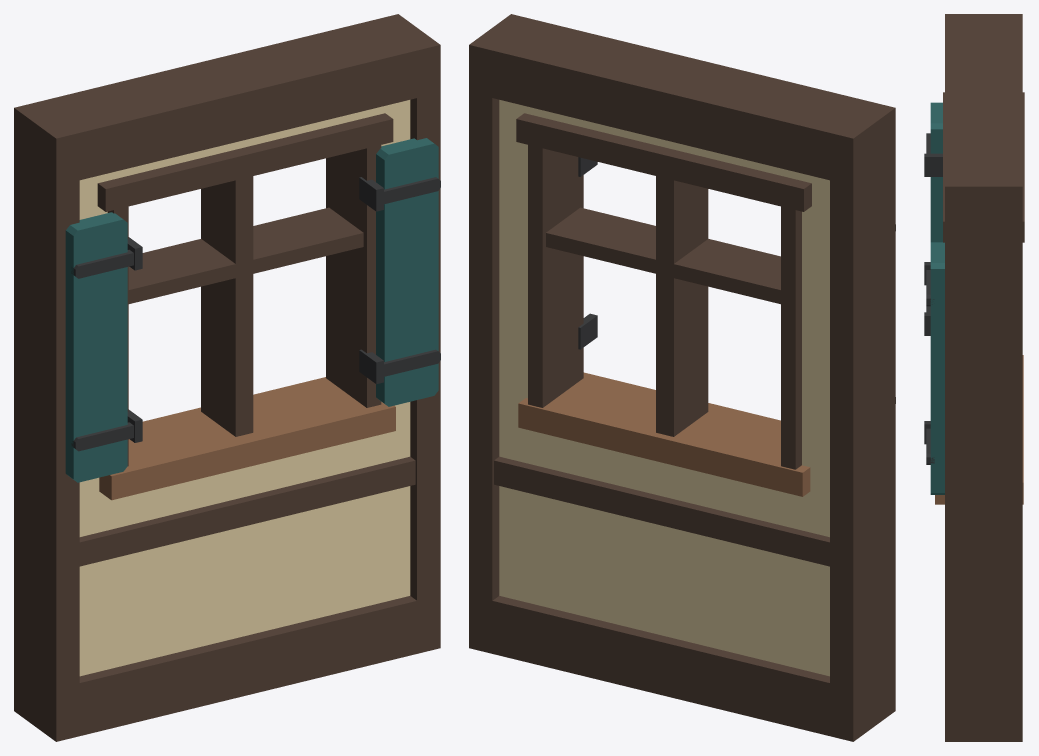
The model's file is shuttered_casement.glb.
The picture shows the model from 3 angles, left to right: view 1: azimuth 30°, elevation 25°; view 2: azimuth 150°, elevation 25°; view 3: azimuth 270°, elevation 25°; orthographic projection. The views are drawn at different scales.
Visible parts, largest first — view 1: Shuttered casement; view 2: Shuttered casement; view 3: Shuttered casement.
Part boxes in pixels (x1=…): Shuttered casement: x1=14, y1=14, x2=440, y2=741; Shuttered casement: x1=469, y1=14, x2=895, y2=741; Shuttered casement: x1=924, y1=14, x2=1024, y2=741.
Bounding box in the file's own units: 1 × 1.5 × 0.245.
